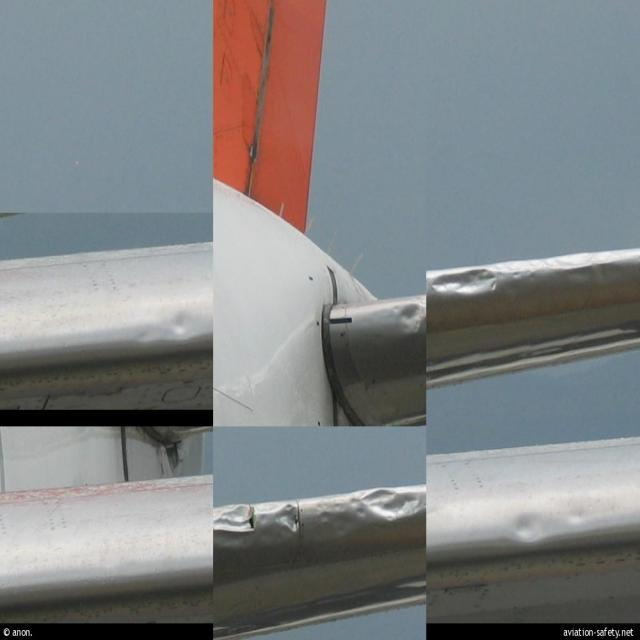dent: (508, 505, 591, 546), (553, 248, 616, 295), (356, 488, 427, 521), (218, 502, 260, 551), (434, 266, 501, 295), (274, 504, 304, 537), (168, 302, 194, 340), (397, 304, 424, 336)
